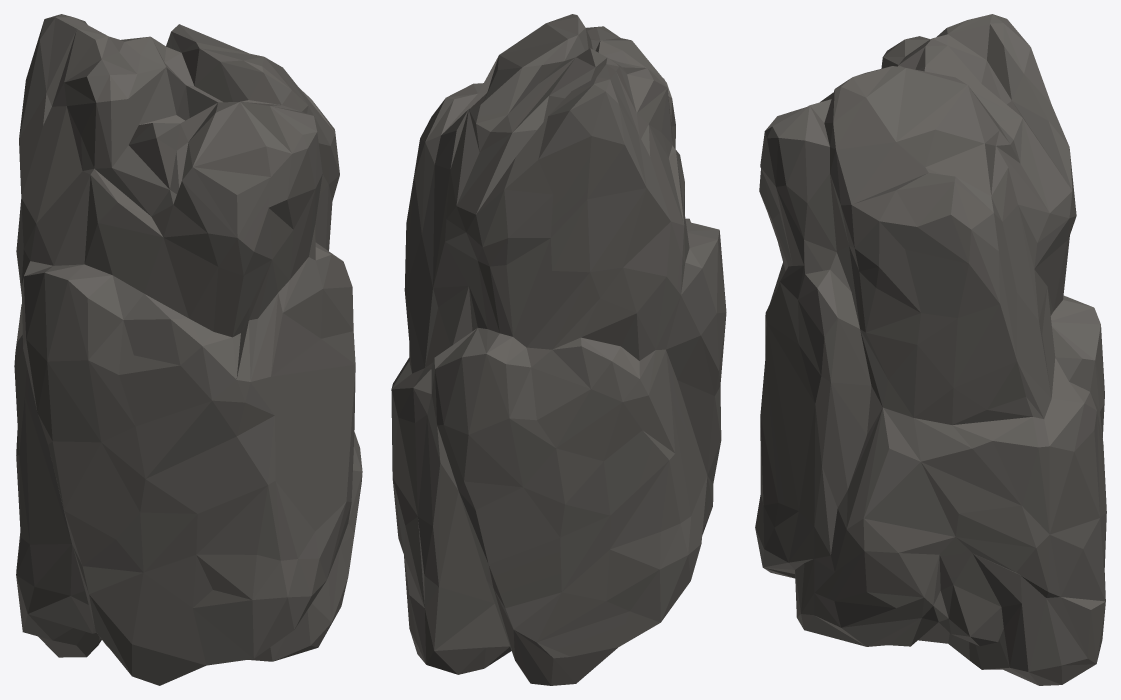
Rendered from env_cliff.gltf.
The picture shows the model from 3 angles, left to right: view 1: azimuth 30°, elevation 25°; view 2: azimuth 150°, elevation 25°; view 3: azimuth 270°, elevation 25°; orthographic projection. The views are drawn at different scales.
Parts seen in each view (by area): view 1: env_cliff; view 2: env_cliff; view 3: env_cliff.
Part boxes in pixels (<box>): env_cliff: <box>14,14,362,685</box>; env_cliff: <box>391,14,726,685</box>; env_cliff: <box>755,14,1106,685</box>.
Size of the model in its own units: 9.1 by 18.47 by 9.76.
1 material, 1 textured.
